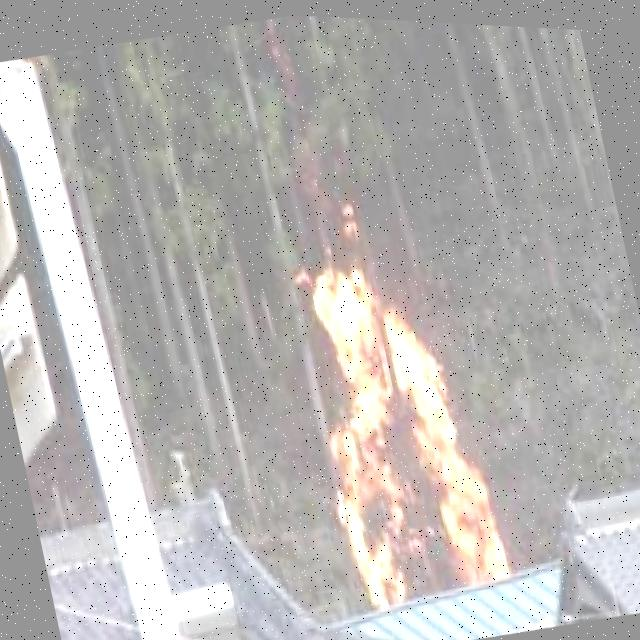Fire: (273, 223, 514, 614)
